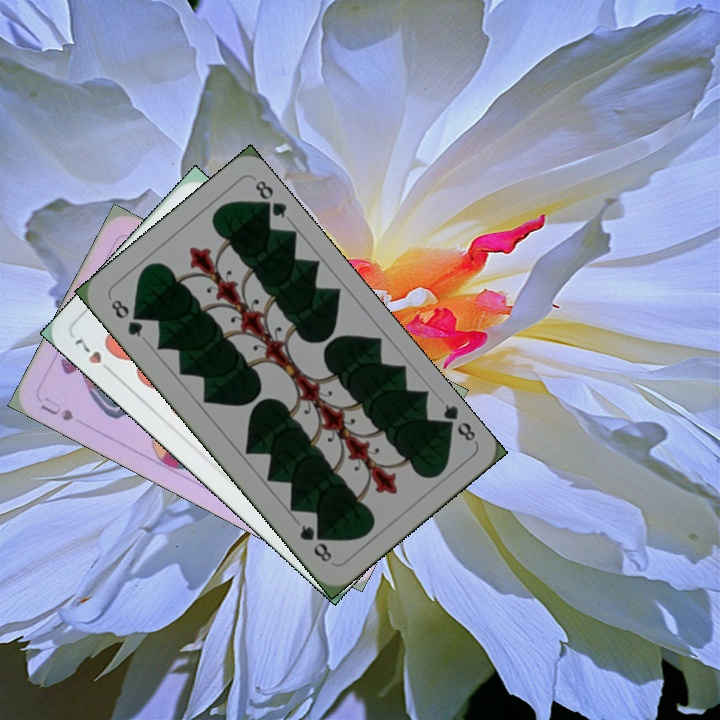G8: (435, 399, 479, 444), (107, 295, 145, 340)
H7: (70, 334, 117, 378)
SU: (36, 392, 76, 424)
